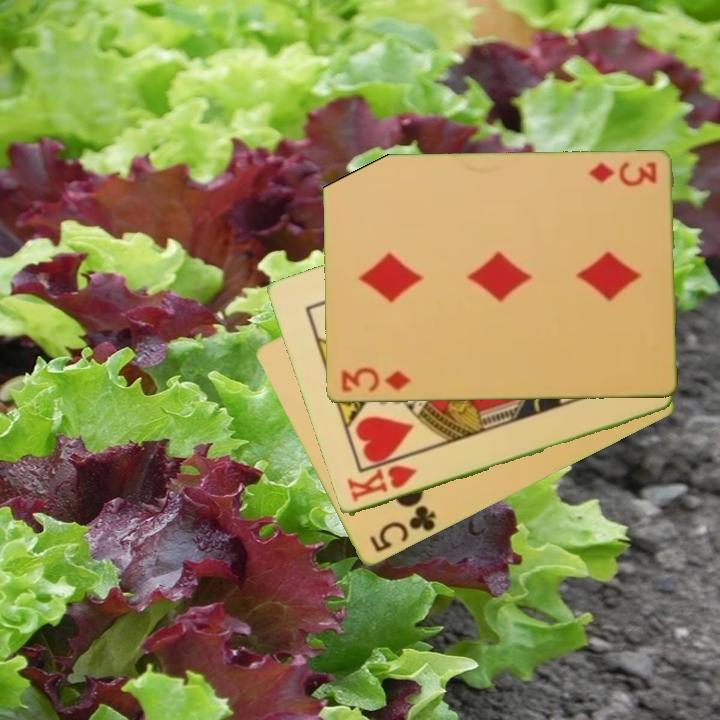3d: (337, 364, 413, 396), (584, 158, 659, 189)
5c: (366, 502, 439, 556)
Kh: (343, 462, 420, 506)
